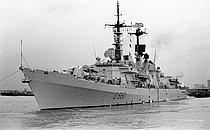MIL_Ship: (20, 3, 189, 110)
